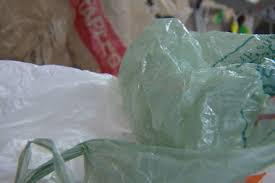Plastic: (116, 19, 274, 164)
